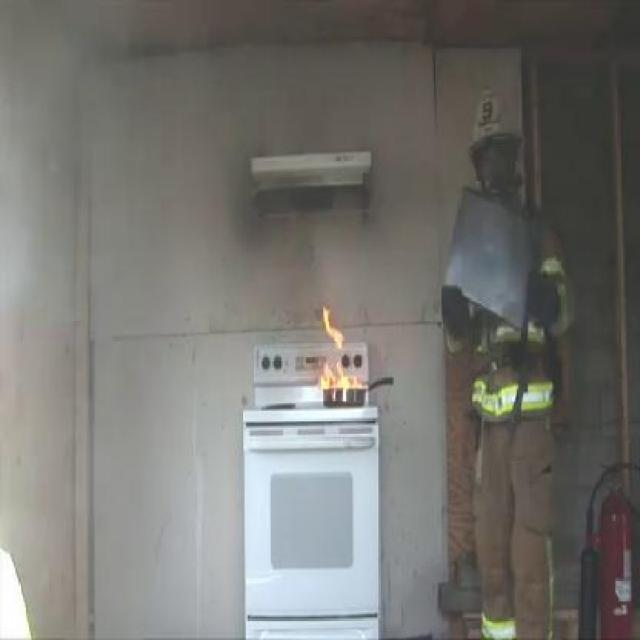fire: (314, 302, 368, 388)
